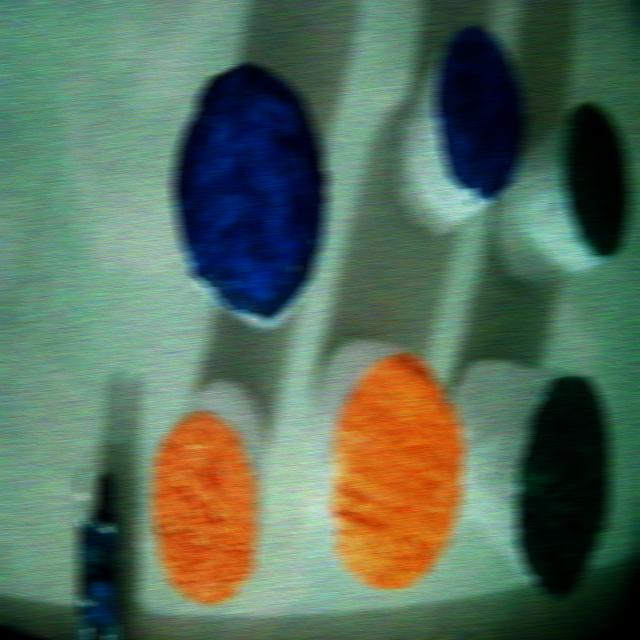blue: (172, 64, 327, 323), (434, 26, 525, 199)
green: (514, 376, 609, 596), (562, 105, 629, 255)
yellow: (329, 352, 464, 588), (151, 410, 258, 604)
